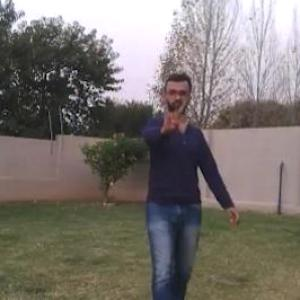takeoff-hand: (152, 97, 189, 135)
